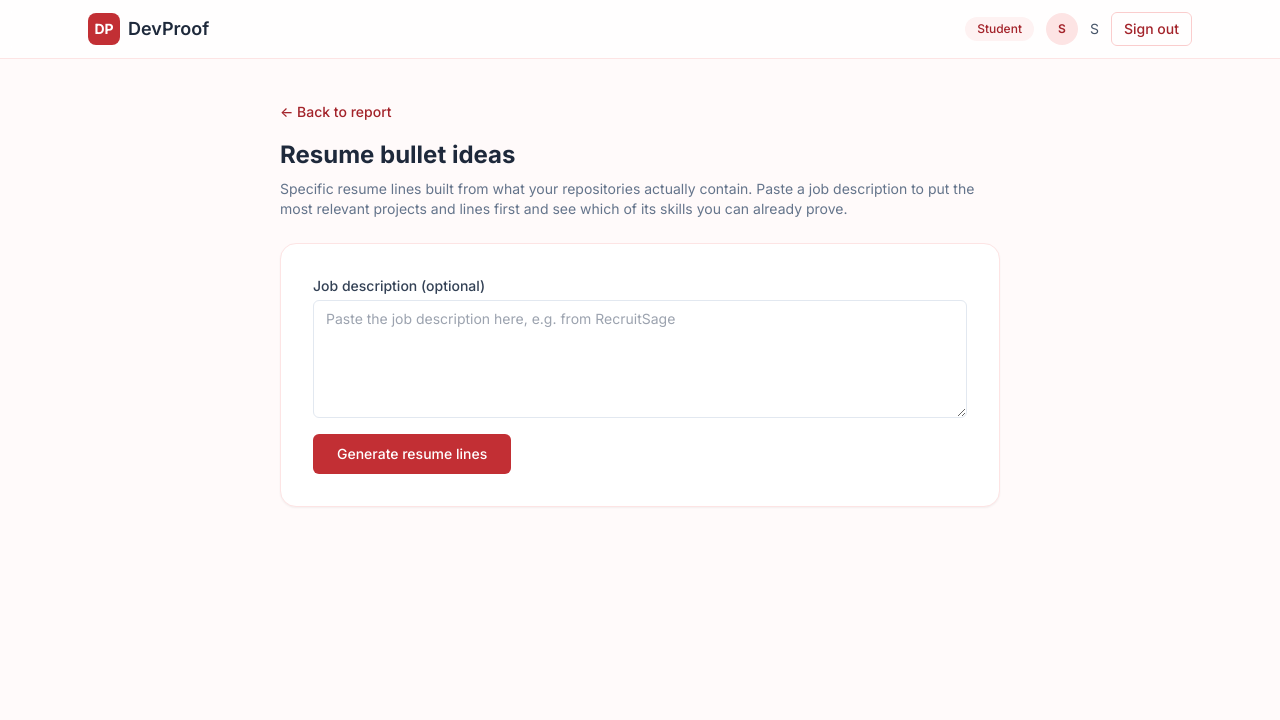
it: ResumeBullets page › shows the server's message when no analysis has been run
The width and height of the screenshot is (1280, 720).
Click the button "Generate resume lines" at (412, 454), box [313, 434, 511, 474]
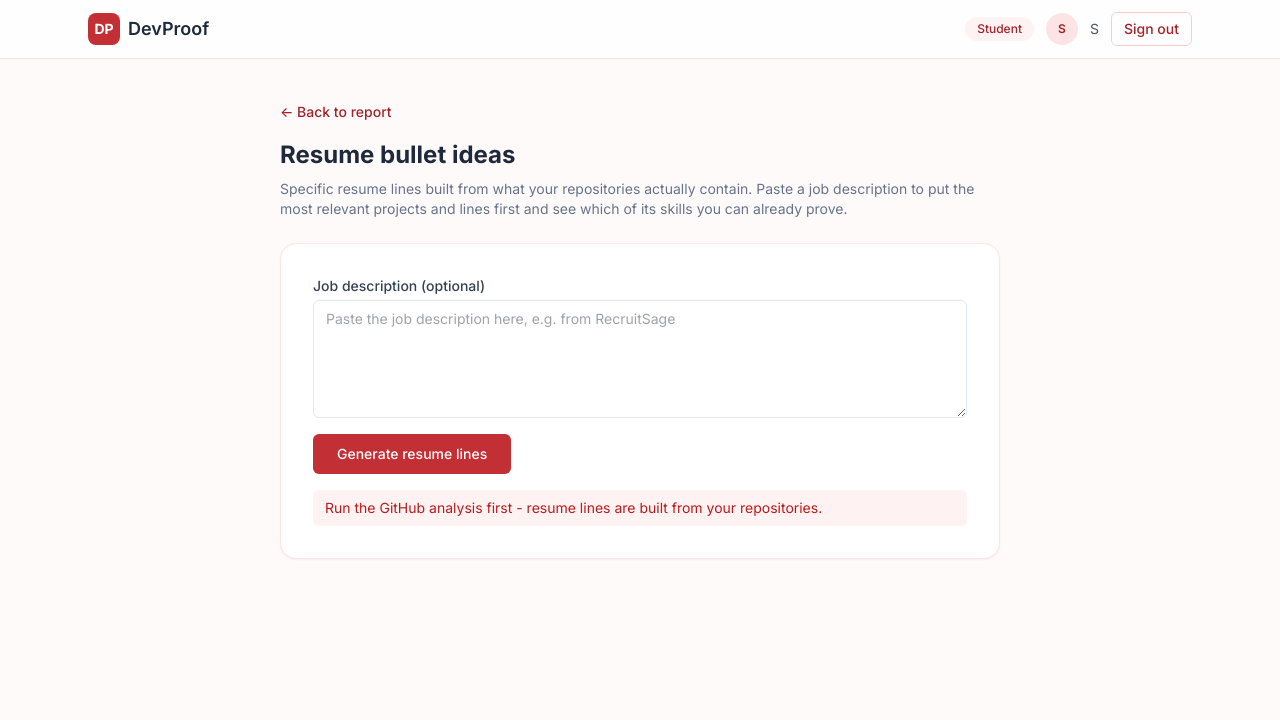
Now the text "Run the GitHub analysis first" is shown, box [325, 499, 822, 516]
